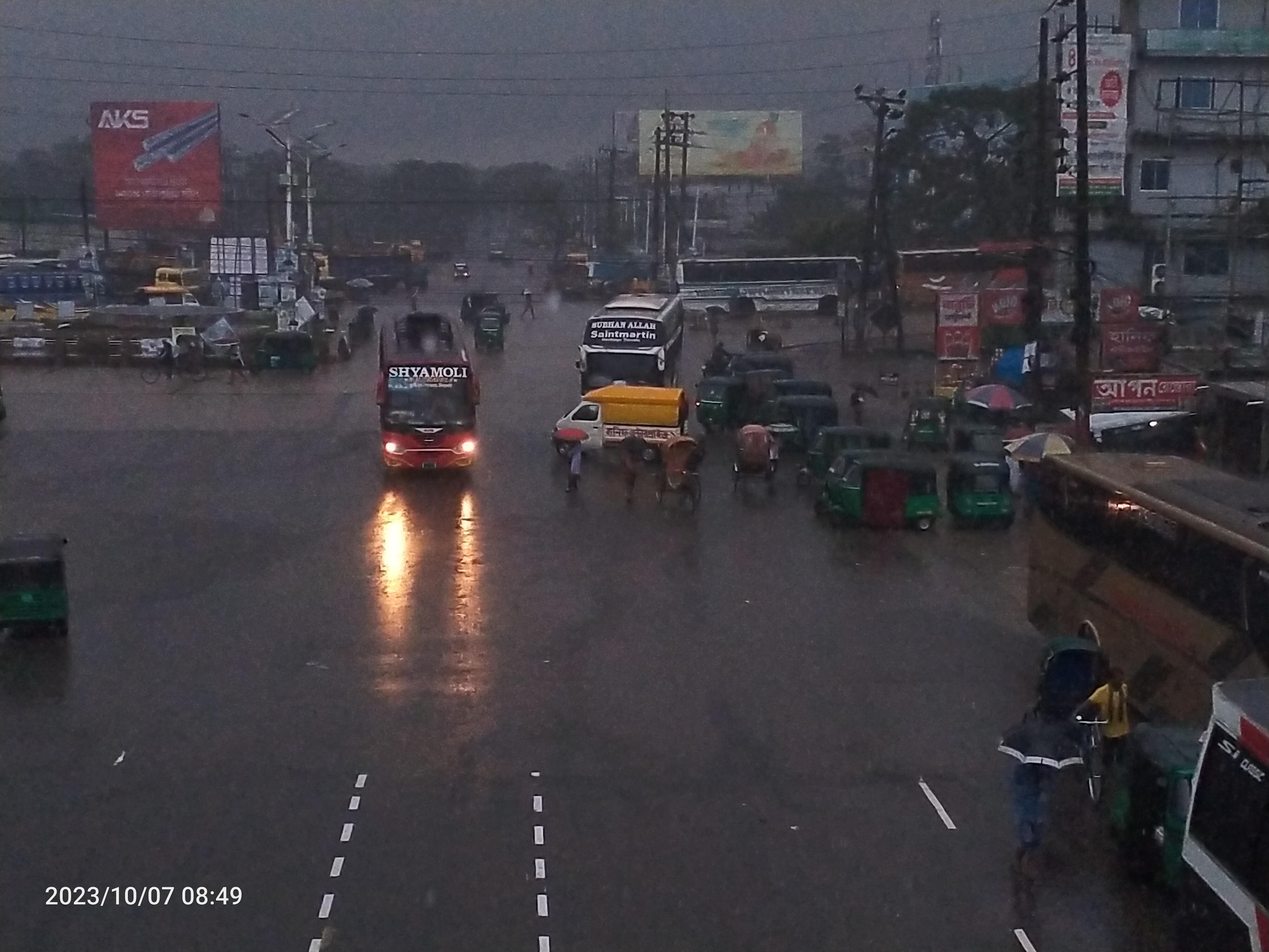Bus: (1005, 421, 1269, 730), (1148, 645, 1269, 952), (358, 294, 498, 501), (879, 225, 1089, 352), (659, 240, 887, 356), (567, 275, 694, 412)
Car: (1006, 615, 1138, 828), (648, 427, 733, 524), (719, 403, 793, 499)
